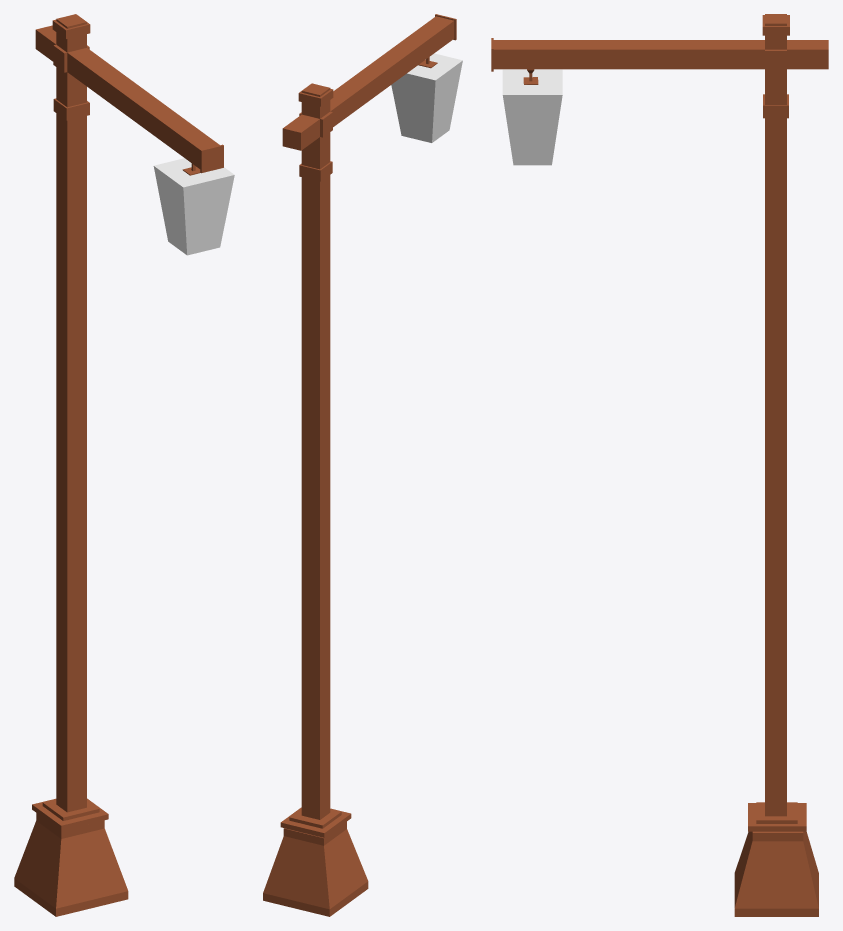
The model's file is StreetLamp.gltf.
3 views of the same model, side by side, from view 1: azimuth 30°, elevation 25°; view 2: azimuth 150°, elevation 25°; view 3: azimuth 270°, elevation 25° (orthographic). The views are drawn at different scales.
Visible parts, largest first — view 1: Cube, Cube.001; view 2: Cube, Cube.001; view 3: Cube, Cube.001.
Boxes of the visible parts, bbox=[...] form: Cube: bbox=[14, 14, 223, 916]; Cube.001: bbox=[153, 158, 234, 255]; Cube: bbox=[263, 14, 456, 916]; Cube.001: bbox=[391, 53, 462, 142]; Cube: bbox=[491, 14, 828, 916]; Cube.001: bbox=[502, 69, 562, 165].
Size of the model in its own units: 1.05 by 12.13 by 4.21.
